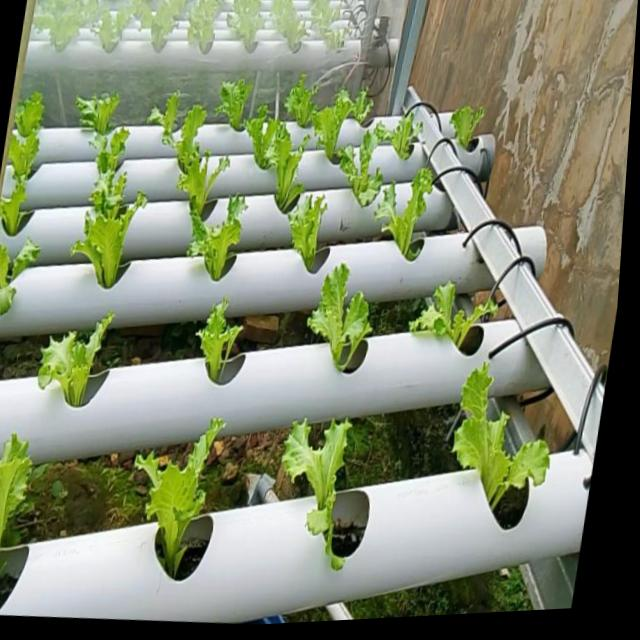Baby: (456, 356, 555, 503), (137, 413, 226, 573), (285, 414, 354, 564), (41, 309, 115, 404), (310, 257, 374, 364), (165, 124, 232, 218), (413, 272, 506, 339), (377, 162, 436, 255), (256, 116, 312, 211), (0, 431, 34, 580), (78, 204, 139, 287), (199, 71, 257, 154), (314, 85, 375, 158), (339, 121, 388, 204), (199, 293, 244, 377), (202, 194, 247, 278), (87, 145, 129, 234), (0, 237, 42, 314), (290, 191, 330, 268), (9, 100, 44, 181), (378, 103, 426, 156), (147, 90, 190, 146), (77, 92, 121, 135), (286, 71, 320, 126), (452, 98, 488, 140)
